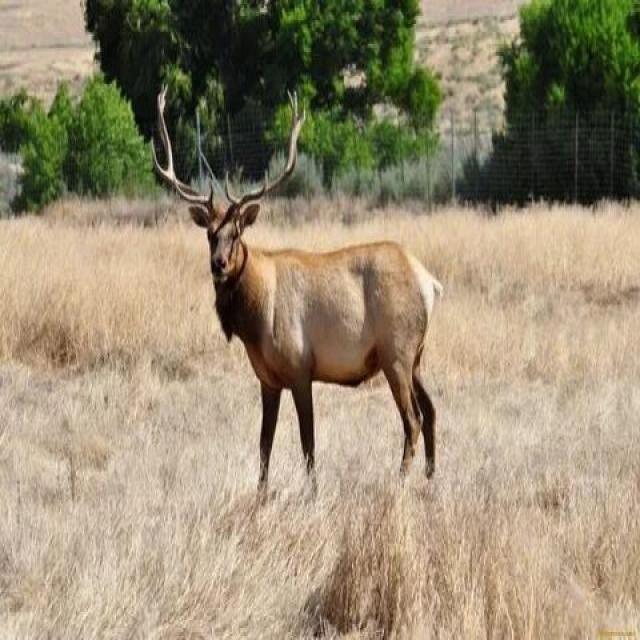deer: (129, 113, 536, 603)
